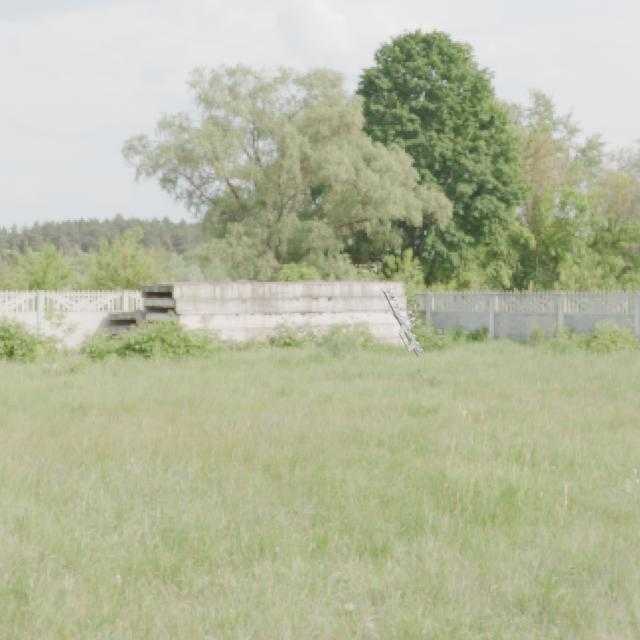Airaplan: (381, 287, 425, 357)
